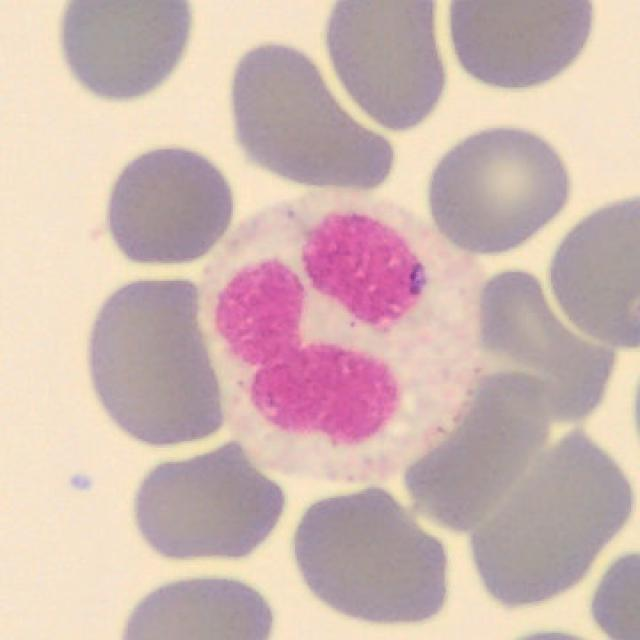Neutrofilo segmentado: (196, 184, 487, 490)
